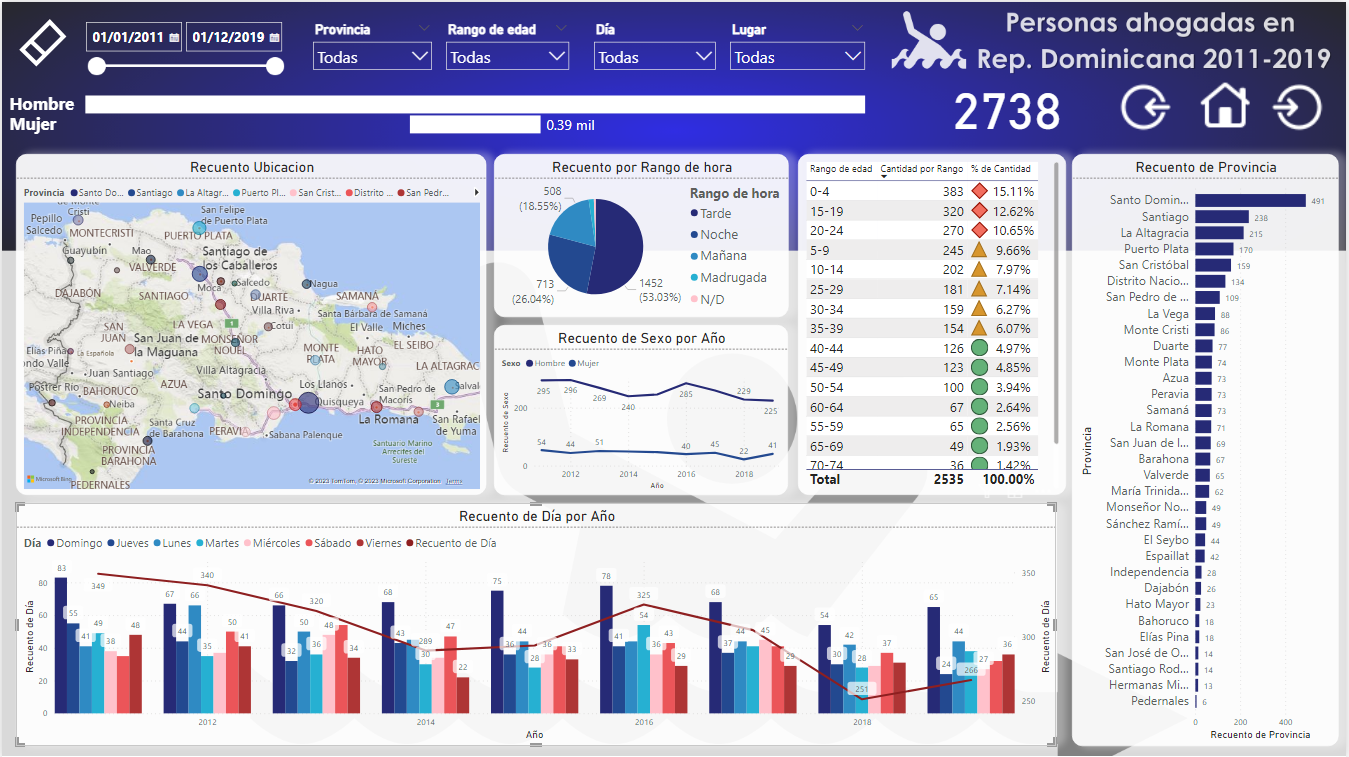

Layout of this report page (visuals, bound fields, positions):
{"tool":"powerbi","page":{"name":"Pagina principal","canvas":[1920,1080],"ordinal":0},"visuals":[{"type":"pieChart","title":"Recuento por Rango de hora","fields":{"Category":["Ahogados.Rango de hora"],"Y":["CountNonNull(Ahogados.Rango de hora)"]},"box":[703.4,217.2,421.5,232.7],"z":0},{"type":"slicer","fields":{"Values":["Ahogados.Combinada"]},"box":[107.1,18.6,304.3,91.4],"z":1000},{"type":"actionButton","box":[20,14.3,77.1,88.6],"z":2000},{"type":"image","box":[1689.9,98.3,115.1,103.4],"z":3000},{"type":"image","box":[1570.9,98.3,118.9,103.4],"z":4000},{"type":"image","box":[1795.9,95.7,103.4,108.6],"z":5000},{"type":"funnel","fields":{"Category":["Ahogados.Sexo"],"Y":["CountNonNull(Ahogados.Sexo)"]},"box":[5.2,125.4,1237.3,69.8],"z":6000},{"type":"clusteredBarChart","title":"Recuento de Provincia","fields":{"Category":["Ahogados.Provincia"],"Y":["CountNonNull(Ahogados.Provincia)"]},"box":[1528.2,217.2,381.4,845.6],"z":7000},{"type":"card","fields":{"Values":["CountNonNull(Ahogados.Sexo)"]},"box":[1285.2,103.4,300,85.3],"z":8000},{"type":"slicer","fields":{"Values":["Ahogados.Lugar"]},"box":[1030,22.9,212.9,85.7],"z":9000},{"type":"slicer","fields":{"Values":["Ahogados.Provincia"]},"box":[434.3,22.9,190,85.7],"z":10000},{"type":"slicer","fields":{"Values":["Ahogados.Rango de edad"]},"box":[624.3,22.9,195.7,85.7],"z":11000},{"type":"slicer","fields":{"Values":["Ahogados.Día"]},"box":[835.7,22.9,194.3,85.7],"z":12000},{"type":"lineClusteredColumnComboChart","title":"Recuento de Día por Año ","fields":{"Category":["Ahogados.Combinada.Variación.Jerarquía de fechas.Año"],"Series":["Ahogados.Día"],"Y":["CountNonNull(Ahogados.Día)"],"Y2":["CountNonNull(Ahogados.Día)"]},"box":[19.4,716.3,1486.9,346.5],"z":13000},{"type":"map","title":"Recuento  Ubicacion","fields":{"Category":["Ahogados.Provincia"],"Size":["CountNonNull(Ahogados.Provincia)"],"Series":["Ahogados.Provincia"]},"box":[19.4,217.2,672.3,487.4],"z":14000},{"type":"tableEx","fields":{"Values":["Ahogados.Rango de edad","CountNonNull(Ahogados.Rango de edad)","CountNonNull(Ahogados.Rango de edad)"]},"box":[1136.5,217.2,382.7,487.4],"z":15000},{"type":"lineChart","title":"Recuento de Sexo por Año","fields":{"Y":["CountNonNull(Ahogados.Sexo)"],"Series":["Ahogados.Sexo"],"Category":["Ahogados.Combinada.Variación.Jerarquía de fechas.Año"]},"box":[703.4,461.6,420.2,243.1],"z":16000}]}

Visuals, with their boxes in screenshot pixels (x1, y1, x2, y2), scaled from the page's 1920x1080 canvas onto the 1349x757 screenshot:
"Recuento por Rango de hora" pieChart: locate(494, 152, 790, 315)
slicer - Ahogados.Combinada: locate(75, 13, 289, 77)
actionButton: locate(14, 10, 68, 72)
image: locate(1187, 69, 1268, 141)
image: locate(1104, 69, 1187, 141)
image: locate(1262, 67, 1334, 143)
funnel - Ahogados.Sexo x CountNonNull(Ahogados.Sexo): locate(4, 88, 873, 137)
"Recuento de Provincia" clusteredBarChart: locate(1074, 152, 1342, 745)
card - CountNonNull(Ahogados.Sexo): locate(903, 72, 1114, 132)
slicer - Ahogados.Lugar: locate(724, 16, 873, 76)
slicer - Ahogados.Provincia: locate(305, 16, 439, 76)
slicer - Ahogados.Rango de edad: locate(439, 16, 576, 76)
slicer - Ahogados.Día: locate(587, 16, 724, 76)
"Recuento de Día por Año " lineClusteredColumnComboChart: locate(14, 502, 1058, 745)
"Recuento  Ubicacion" map: locate(14, 152, 486, 494)
tableEx - Ahogados.Rango de edad x CountNonNull(Ahogados.Rango de edad): locate(799, 152, 1067, 494)
"Recuento de Sexo por Año" lineChart: locate(494, 324, 789, 494)
